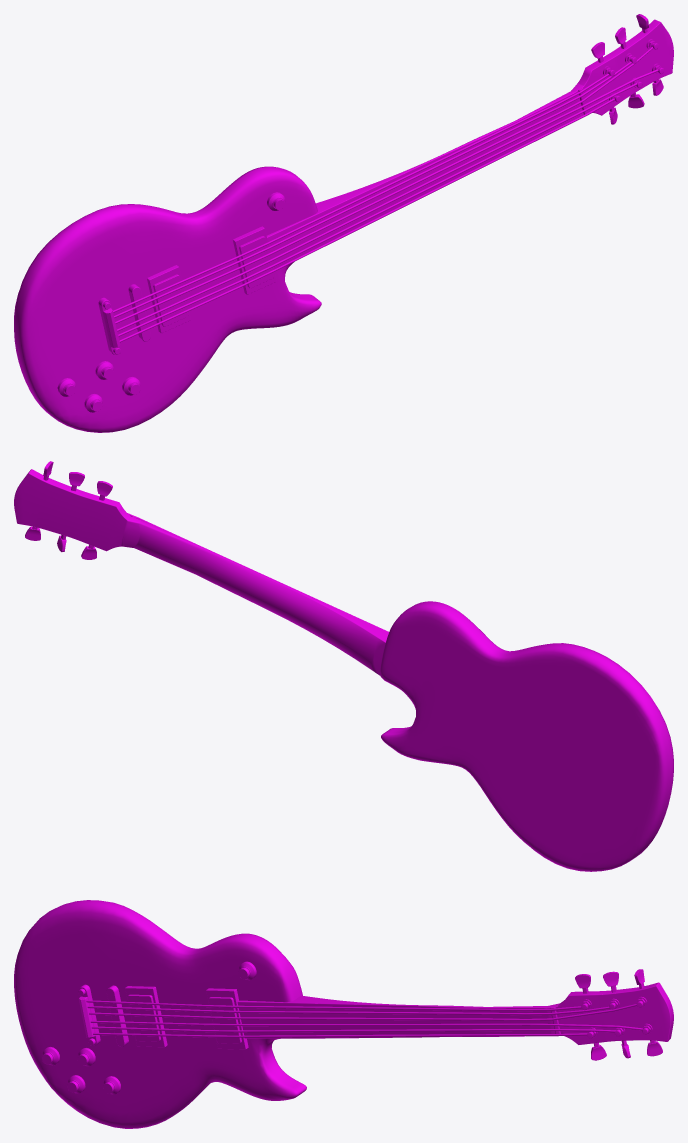
File: Mesh_Guitar.fbx
3 views of the same model, one above another, from view 1: azimuth 30°, elevation 25°; view 2: azimuth 150°, elevation 25°; view 3: azimuth 330°, elevation 25° (orthographic).
Visible parts, largest first — view 1: guitar_export; view 2: guitar_export; view 3: guitar_export.
Boxes of the visible parts, bbox=[...] form: guitar_export: bbox=[14, 14, 673, 432]; guitar_export: bbox=[14, 461, 673, 871]; guitar_export: bbox=[14, 900, 673, 1128].
Bounding box in the file's own units: 136 × 55.5 × 8.77.
